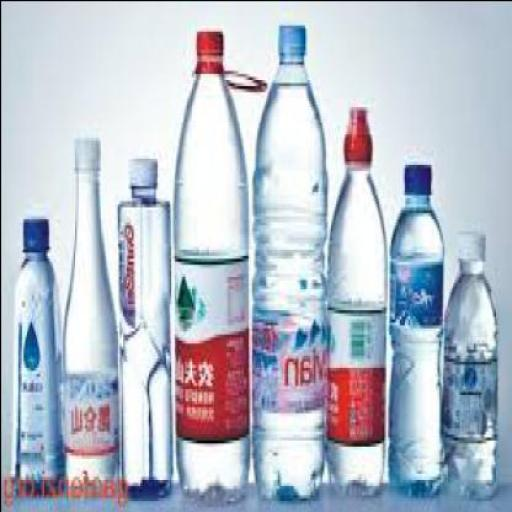plastic: (250, 18, 328, 496), (173, 27, 249, 497), (327, 100, 388, 494), (62, 134, 120, 488), (386, 161, 446, 500), (118, 151, 172, 500), (443, 224, 500, 497), (174, 248, 251, 446), (12, 215, 66, 491), (326, 297, 387, 445), (255, 294, 326, 415), (442, 333, 498, 442), (64, 363, 118, 452), (389, 248, 443, 328), (346, 100, 373, 167), (196, 24, 226, 70), (278, 18, 308, 55), (404, 160, 433, 197), (24, 212, 50, 252), (459, 224, 486, 257), (130, 155, 159, 185), (78, 134, 104, 163)
